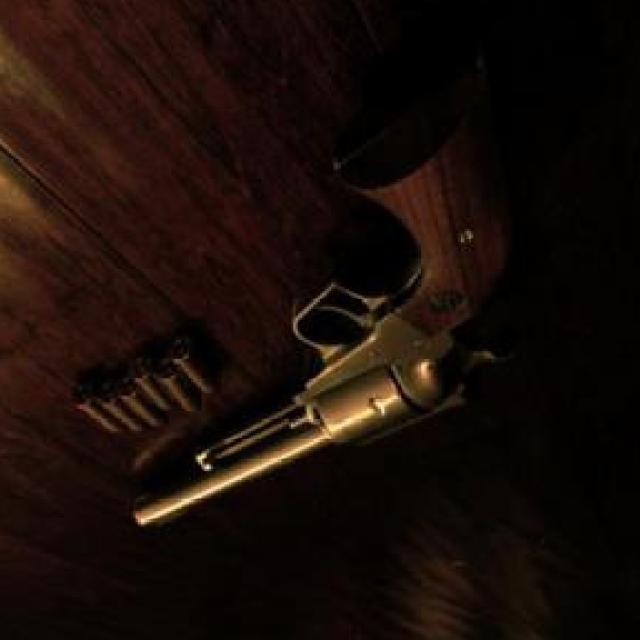pistol: (131, 40, 509, 533)
